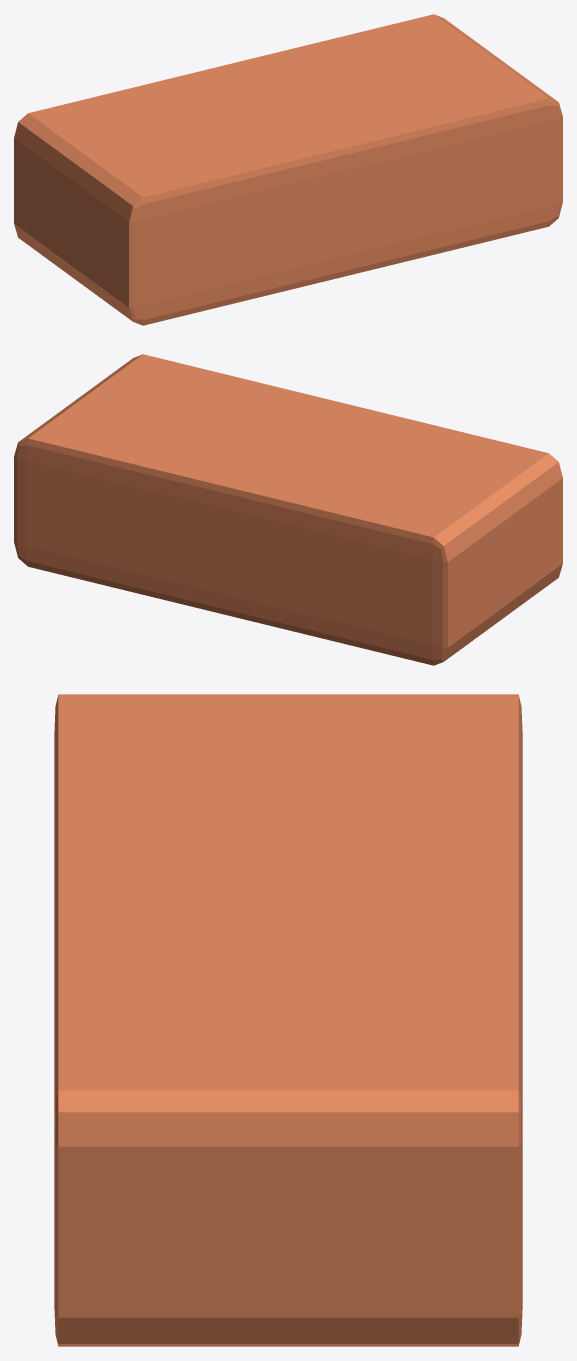
File: Shelf02.fbx
The picture shows the model from 3 angles, top to bottom: view 1: azimuth 30°, elevation 25°; view 2: azimuth 150°, elevation 25°; view 3: azimuth 270°, elevation 25°; orthographic projection. The views are drawn at different scales.
Visible parts, largest first — view 1: Shelf02; view 2: Shelf02; view 3: Shelf02.
Boxes of the visible parts, <box> form: Shelf02: <box>14,14,562,325</box>; Shelf02: <box>14,354,562,665</box>; Shelf02: <box>54,694,522,1346</box>.
Size of the model in its own units: 150 by 42.38 by 70.12.
